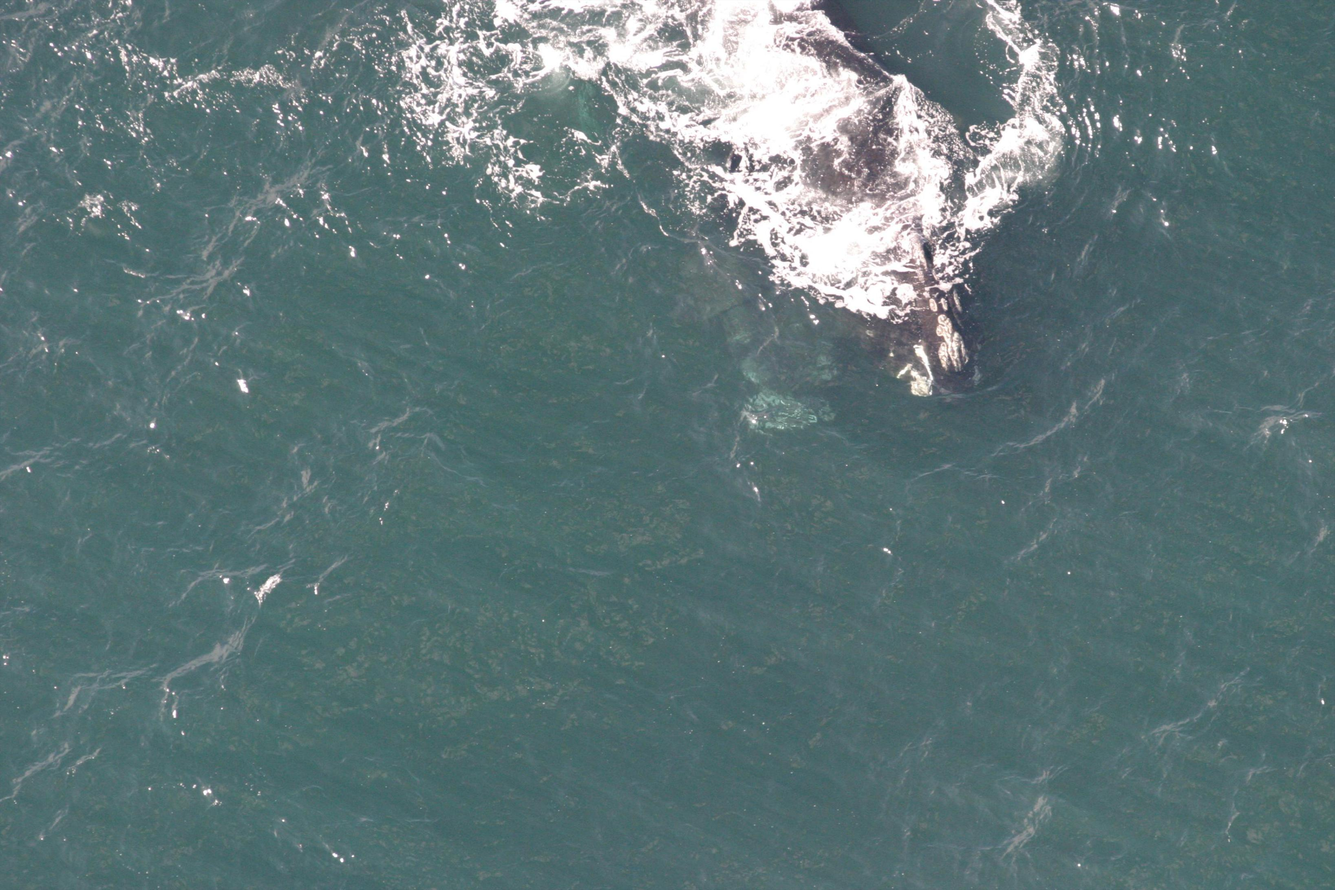whale: (722, 0, 1002, 412)
